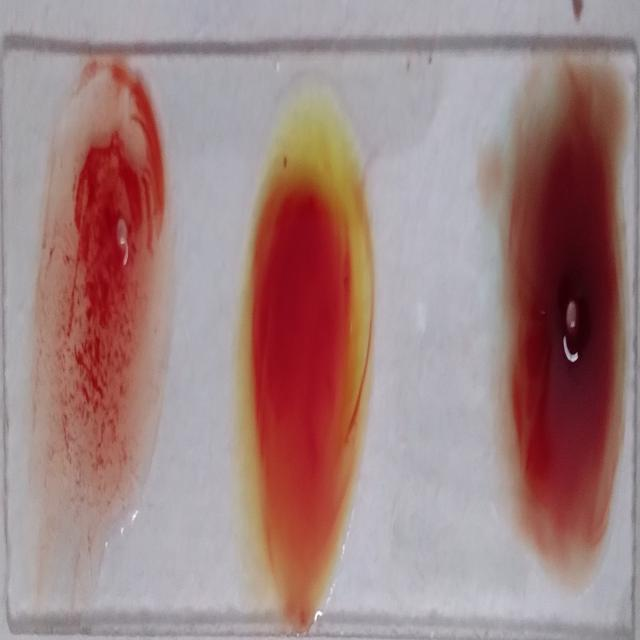D: (41, 65, 171, 528)
